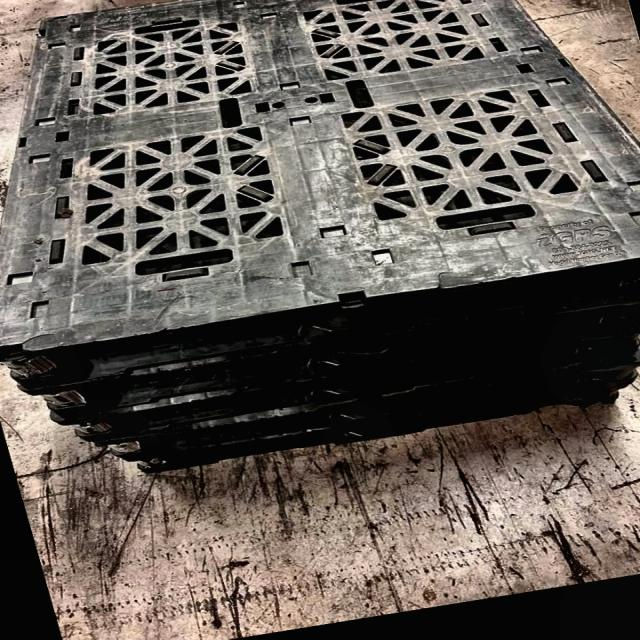igps: (1, 0, 638, 362)
